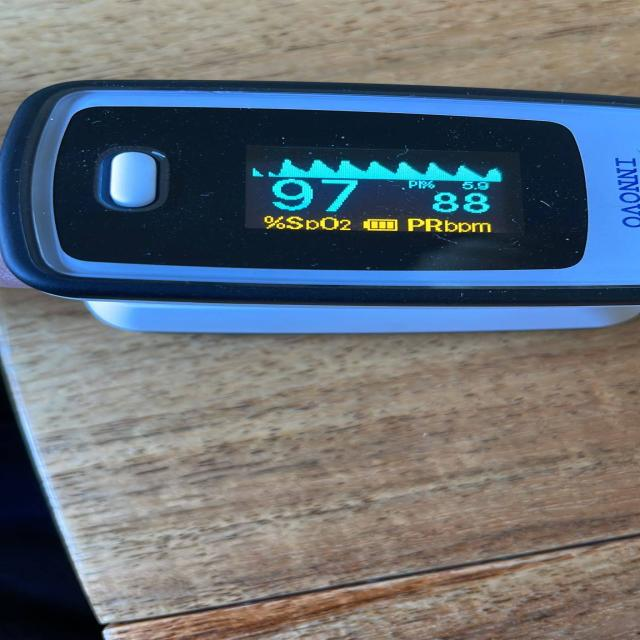spo2: (0, 80, 639, 335)
